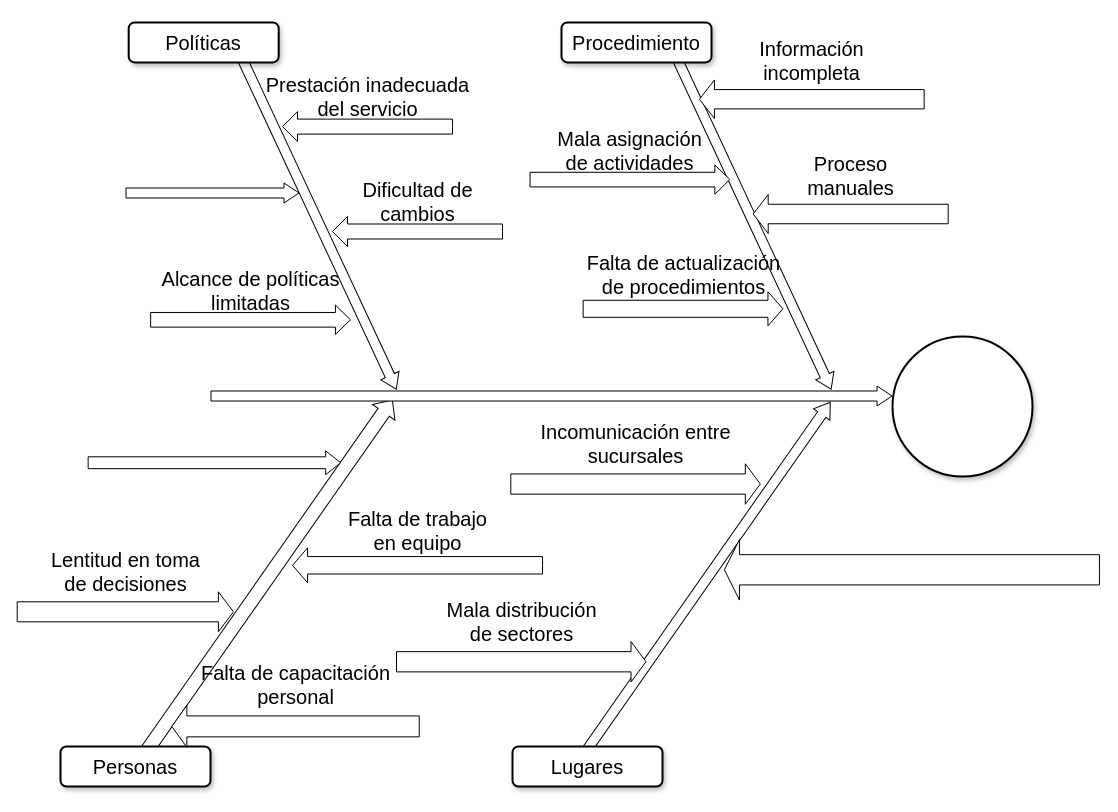
Image size: 1118x812. Some labels were removed from this diagram. The shapes that lost their labels are listed below. From the top down, each one's centre as x and y in pixels, then its label:
the point at 212,192: Flexibilidad
the point at 963,407: Control deficiente de servicios y contratos manuales
the point at 214,462: Falta Motivación
the point at 912,569: Falta de registro de sucursales e información de sucursales
